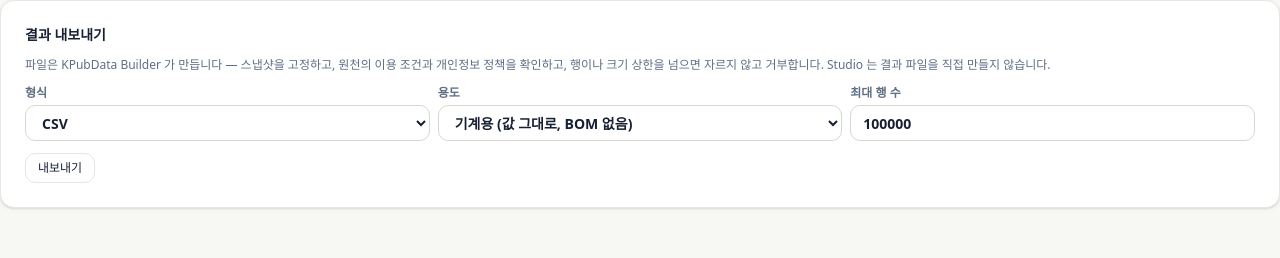
Test case: export refusals for policy blocks (#640) › the export panel shows the redistribution refusal from Builder
Click the button "내보내기" at point(60, 168), box [25,153,95,183]
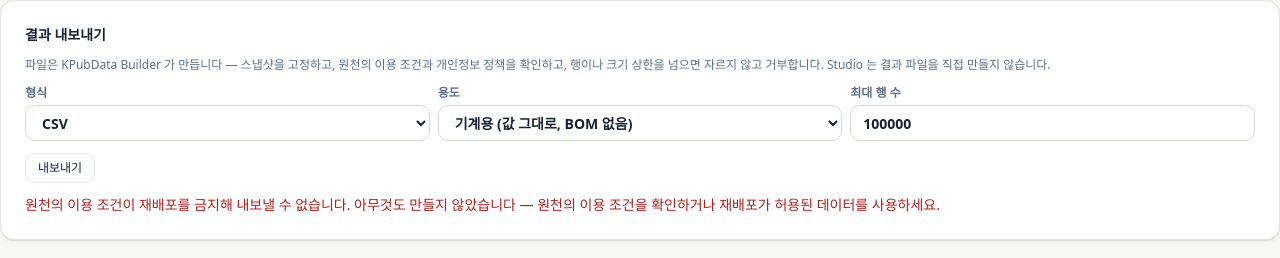
Check: the message shows "원천의 이용 조건이 재배포를 금지해 내보낼 수 없습니다. 아무것도 만들지 않았습니다 — 원천의 이용 조건을 확인하거나 재배포가 허용된 데이터를 사용하세요.", box [25,195,940,214]
